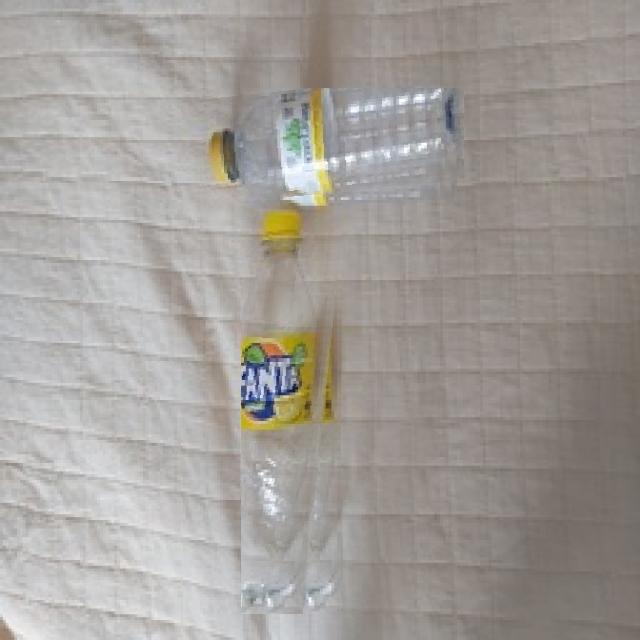plastic bottle: (241, 206, 345, 614), (196, 88, 464, 206)
